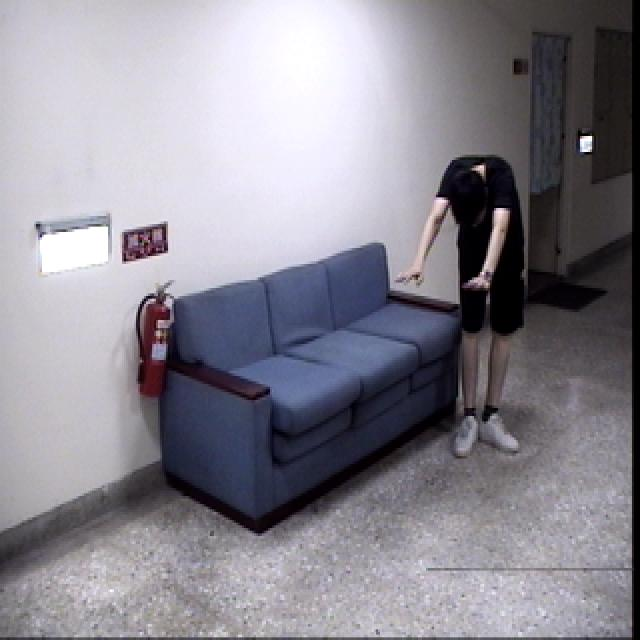bend: (384, 143, 533, 466)
